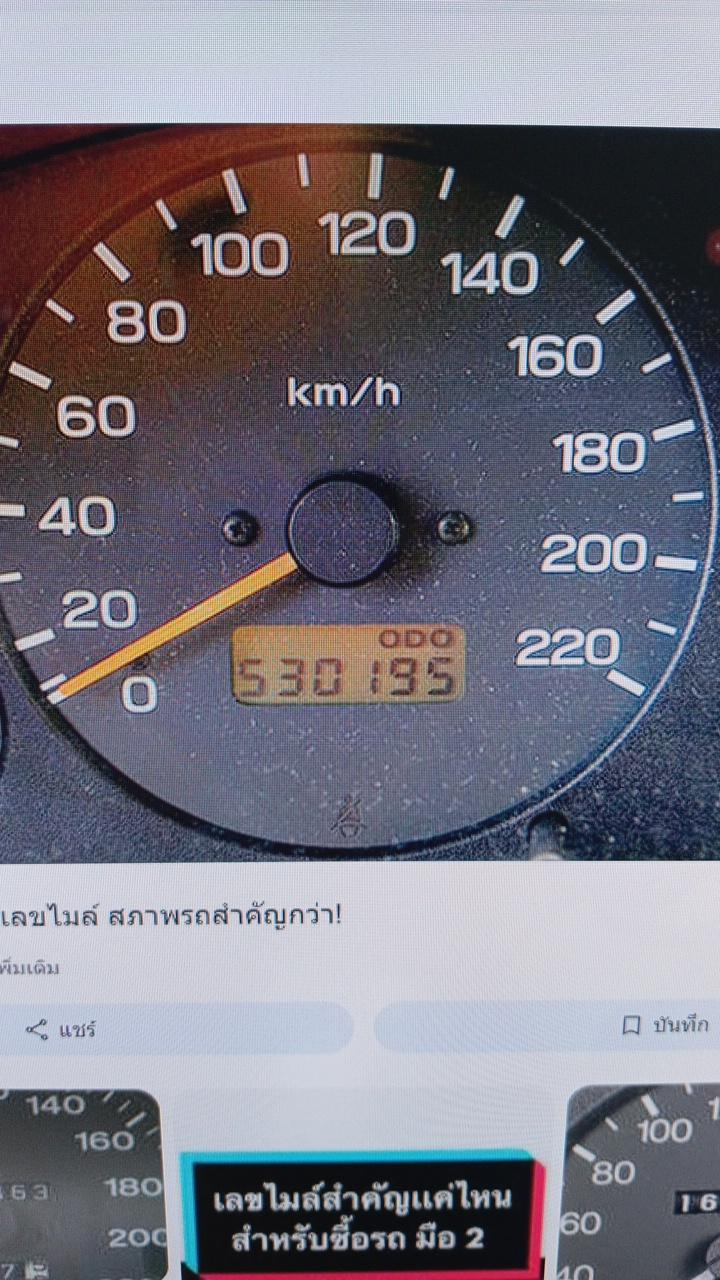0: (313, 655, 342, 696)
1: (369, 659, 380, 697)
3: (277, 656, 305, 697)
5: (238, 656, 267, 700), (427, 656, 456, 697)
9: (388, 657, 418, 696)
odometer: (231, 621, 468, 707)
